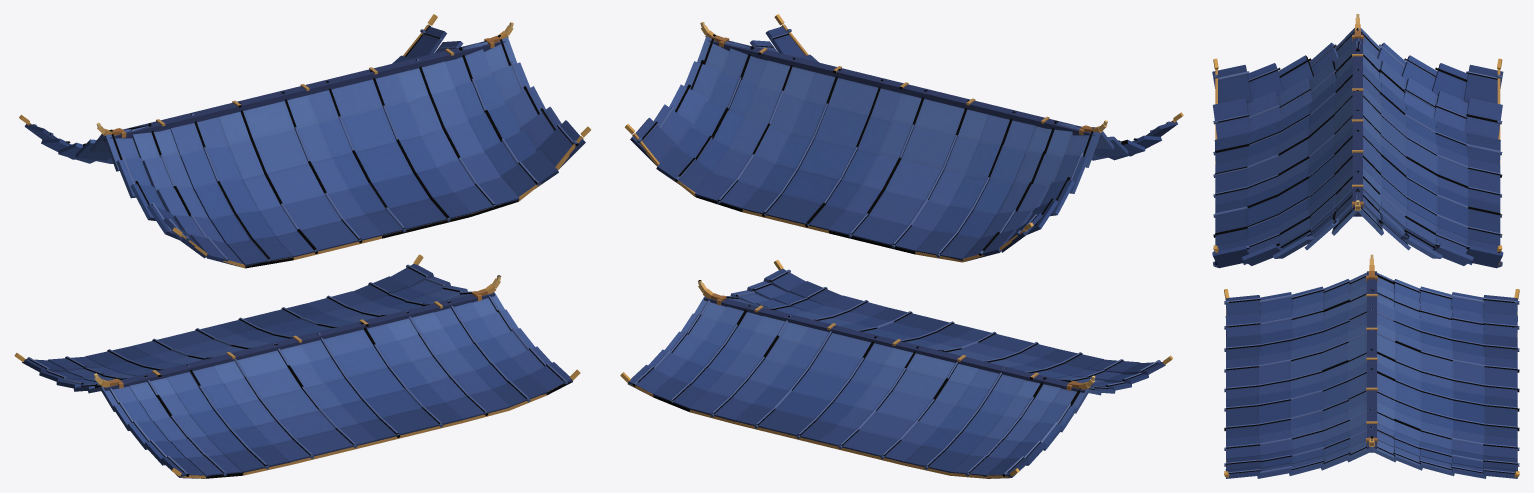
File: Trophy_Hall_Roofs_LOD1.glb
The picture shows the model from 3 angles, left to right: view 1: azimuth 30°, elevation 25°; view 2: azimuth 150°, elevation 25°; view 3: azimuth 270°, elevation 25°; orthographic projection. The views are drawn at different scales.
Visible parts, largest first — view 1: Trophy_Hall_Roofs_LOD1; view 2: Trophy_Hall_Roofs_LOD1; view 3: Trophy_Hall_Roofs_LOD1.
Part boxes in pixels (x1,y1,x2,y2): Trophy_Hall_Roofs_LOD1: [14, 14, 590, 478]; Trophy_Hall_Roofs_LOD1: [620, 14, 1183, 478]; Trophy_Hall_Roofs_LOD1: [1212, 14, 1519, 478].
Size of the model in its own units: 46.11 by 33.66 by 31.73.
1 material, 1 textured.
